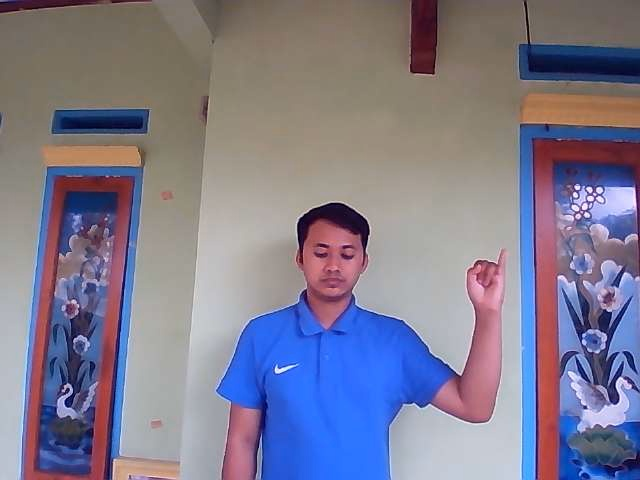I: (466, 248, 507, 307)
